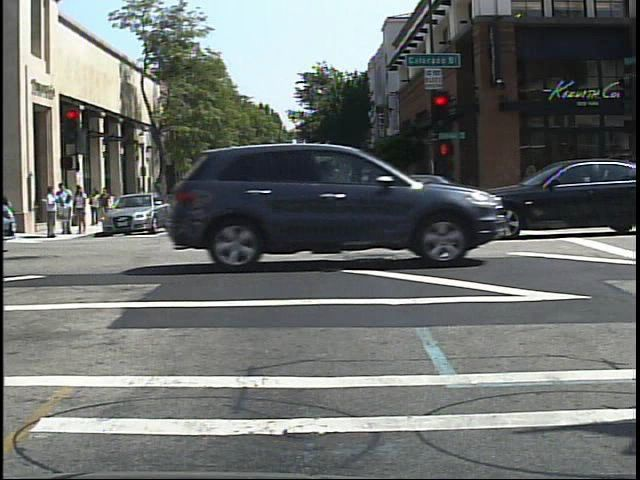person: (163, 181, 181, 218), (89, 186, 104, 228), (136, 182, 154, 215)
